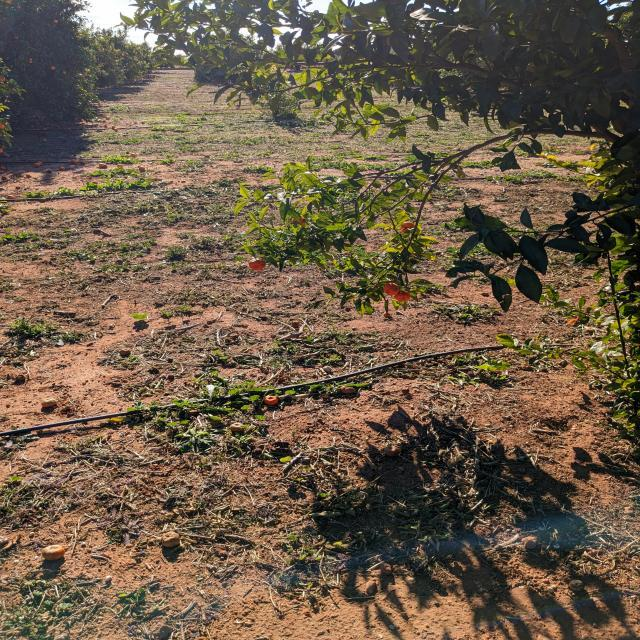Jeruk Sudah Matang: (248, 256, 274, 270), (284, 212, 310, 225), (398, 220, 419, 236), (386, 281, 402, 297), (570, 313, 586, 327), (399, 294, 419, 304), (0, 74, 6, 84), (50, 66, 58, 71), (0, 123, 6, 129), (54, 20, 62, 24), (14, 4, 20, 9), (0, 147, 4, 154), (82, 72, 89, 76), (5, 0, 12, 4), (13, 36, 20, 40), (75, 86, 81, 90), (60, 70, 66, 74), (28, 60, 32, 64), (28, 58, 33, 61)
